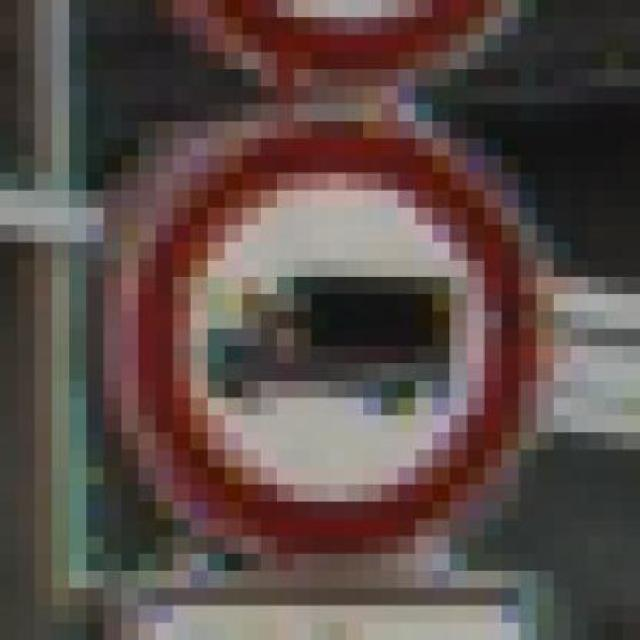Truck traffic is prohibited: (103, 103, 571, 571)
